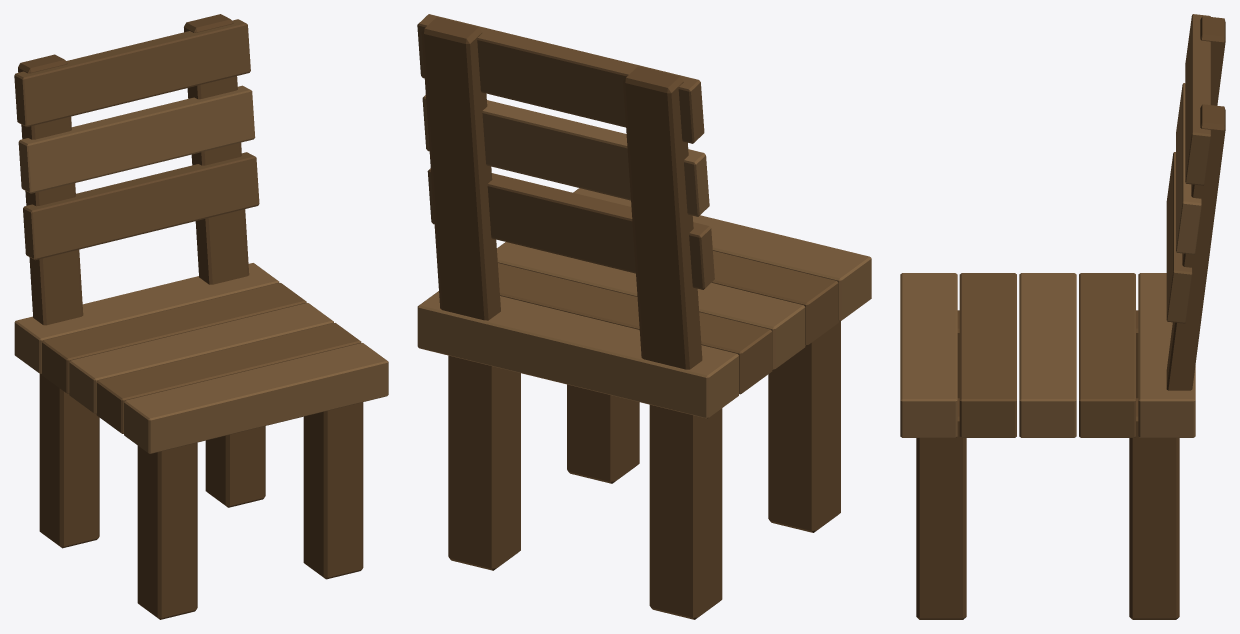
Rendered from Chair_01.fbx.
The picture shows the model from 3 angles, left to right: view 1: azimuth 30°, elevation 25°; view 2: azimuth 150°, elevation 25°; view 3: azimuth 270°, elevation 25°; orthographic projection. The views are drawn at different scales.
Visible parts, largest first — view 1: Chair_01; view 2: Chair_01; view 3: Chair_01.
Part boxes in pixels (x1,y1,x2,y2): Chair_01: (14,14,388,619); Chair_01: (417,14,871,619); Chair_01: (900,14,1225,619).
Bounding box in the file's own units: 0.6282 × 1.14 × 0.6768.
